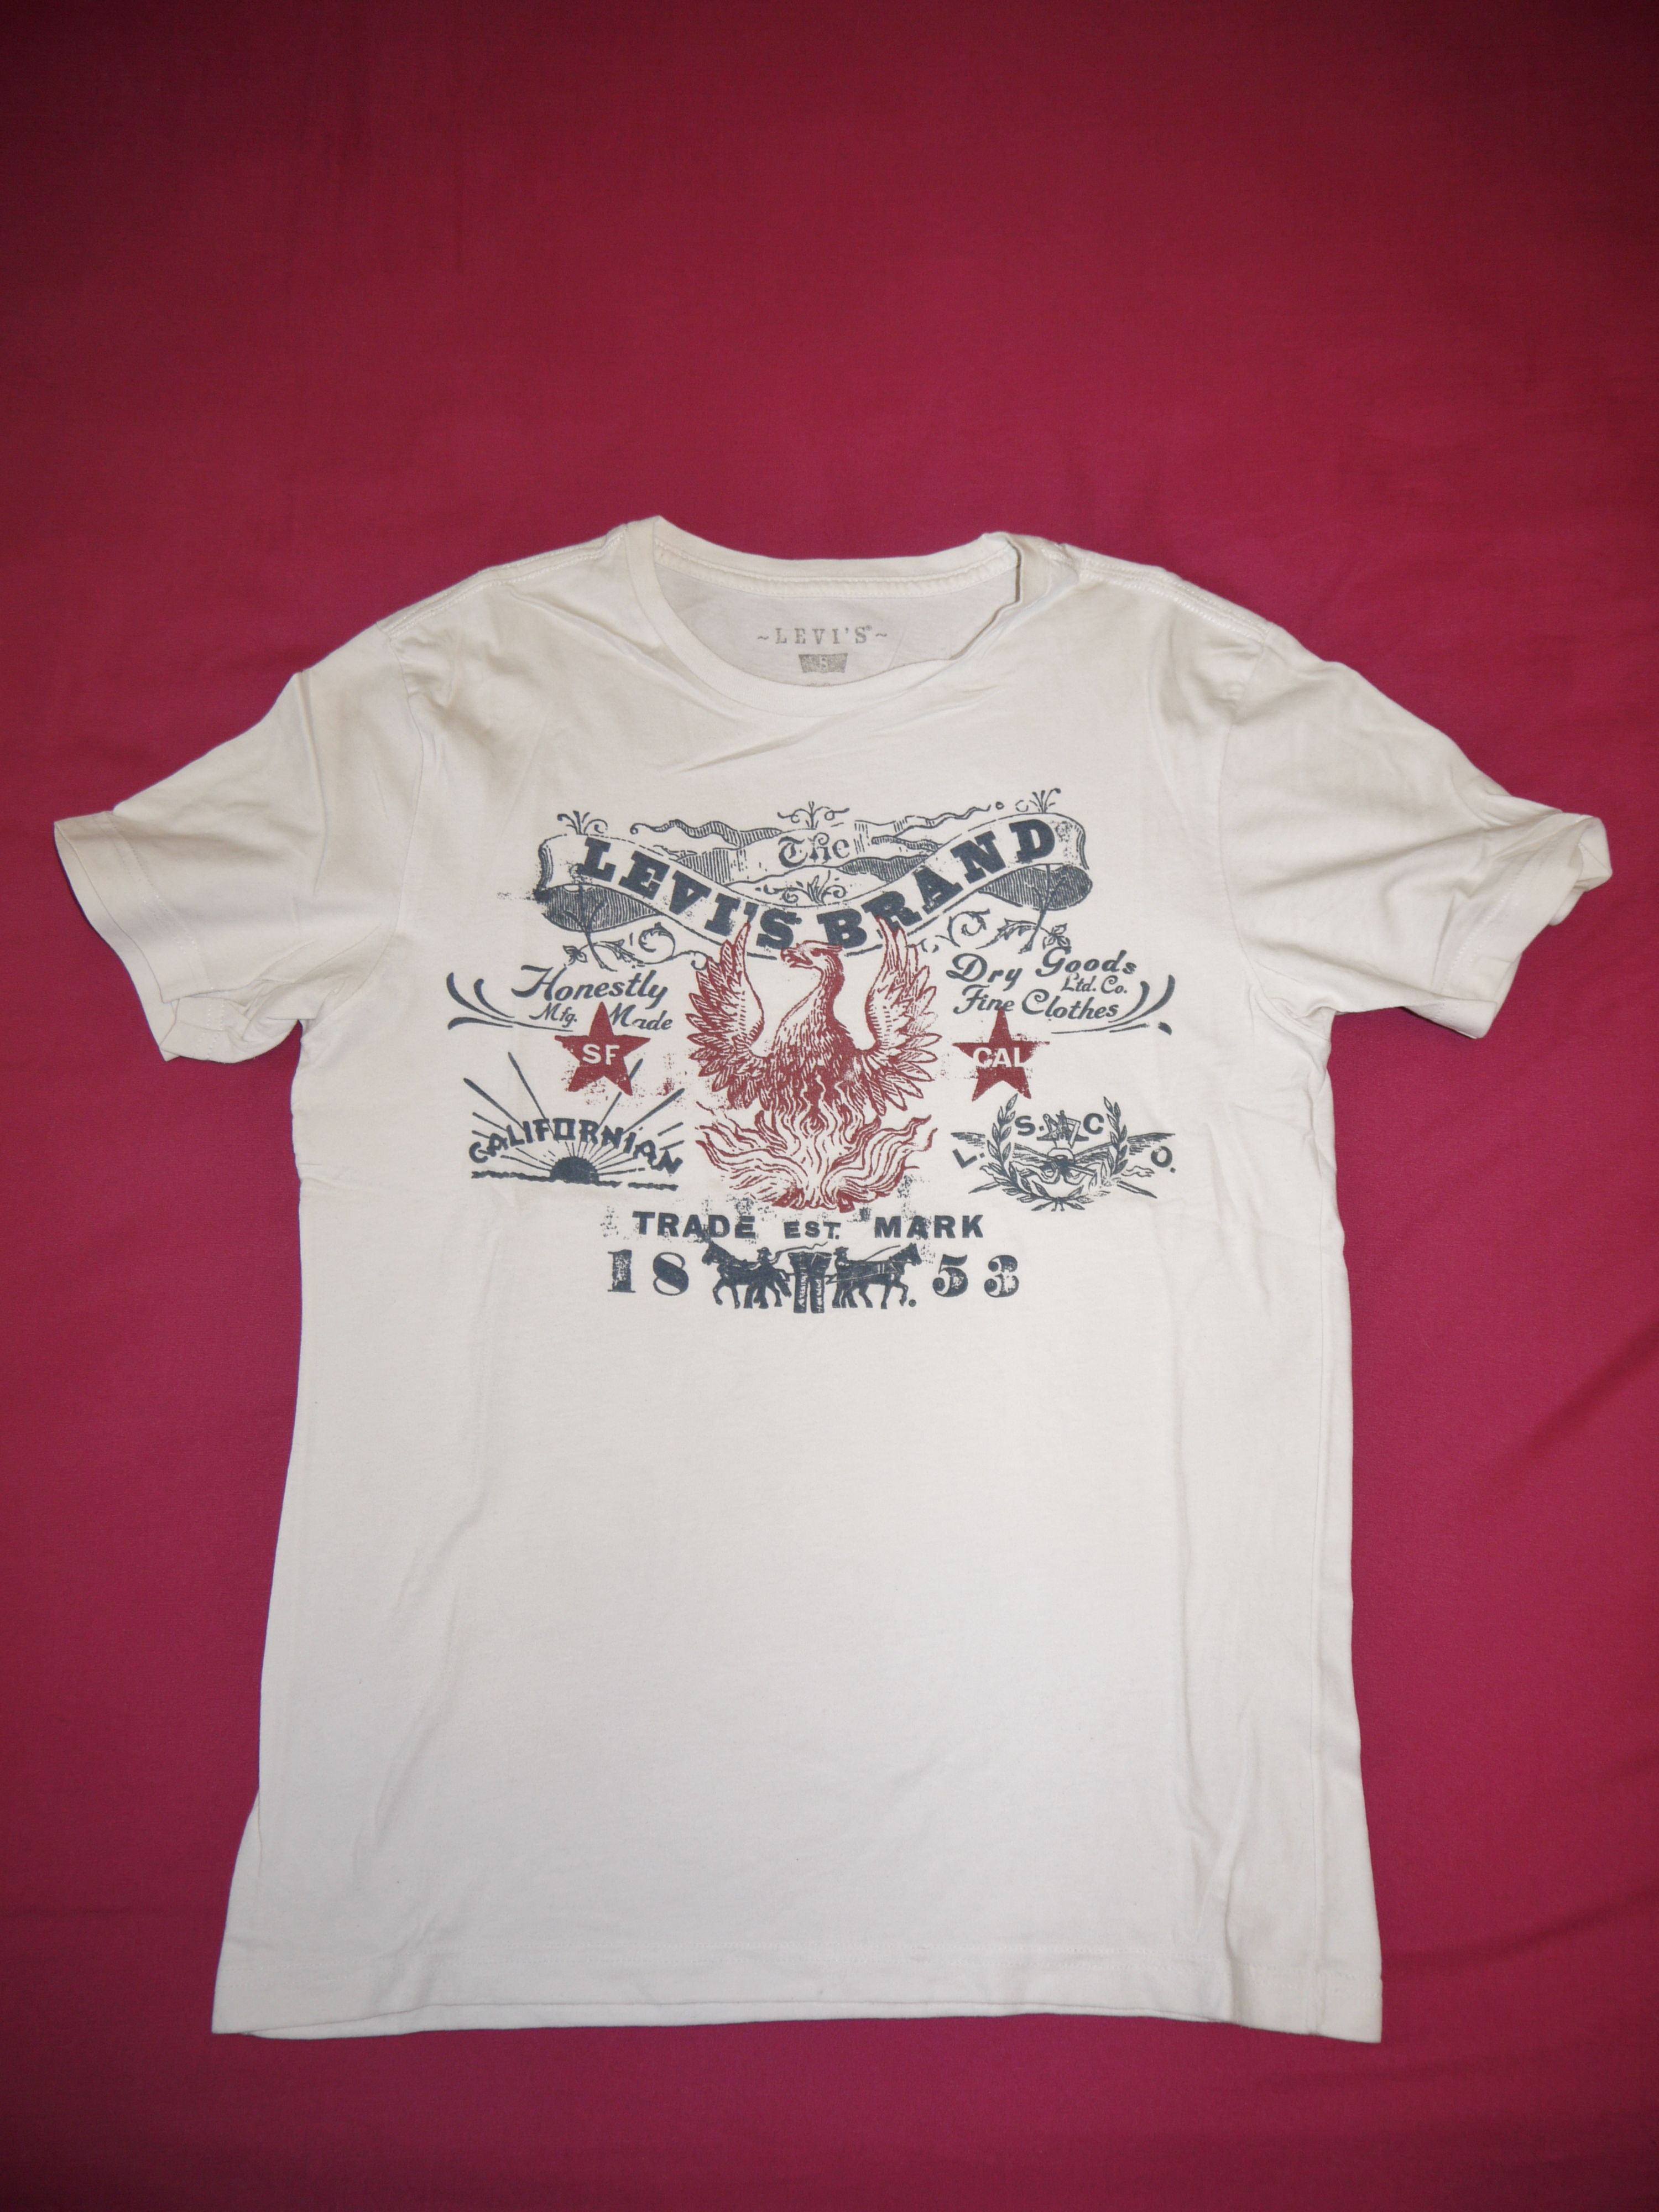clothes: (33, 512, 1588, 2078)
